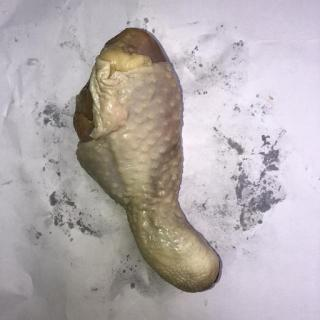Ayam: (73, 28, 221, 294)
